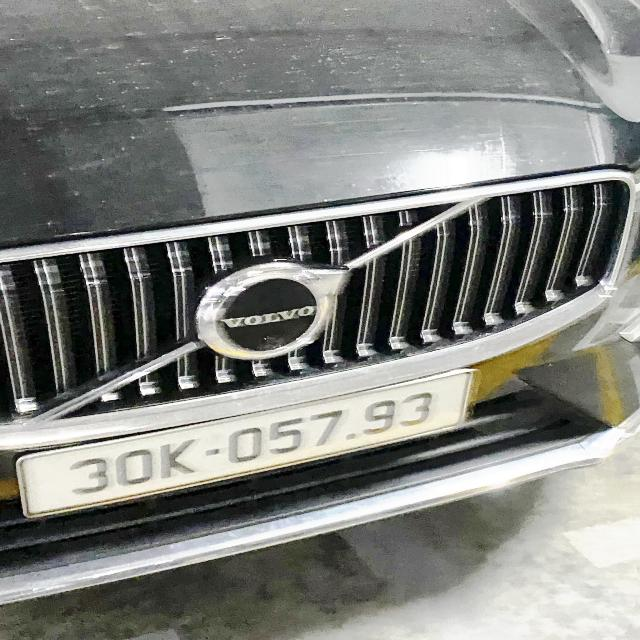license_plate: (7, 363, 480, 524)
